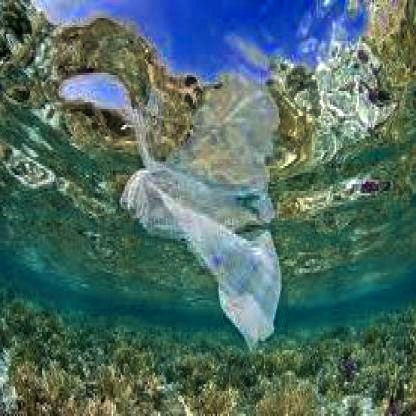pbag: (117, 166, 282, 355)
